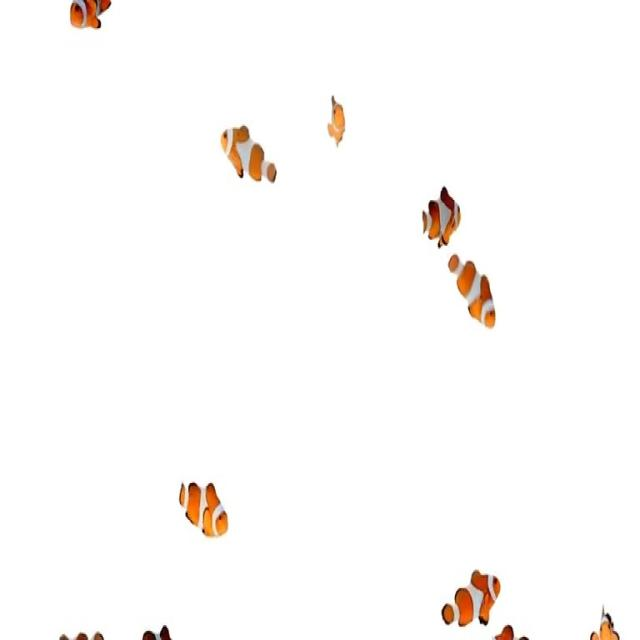fish: (448, 251, 503, 337), (441, 563, 502, 629), (220, 124, 278, 186), (180, 474, 228, 539), (419, 183, 460, 246), (66, 1, 114, 34), (325, 93, 348, 147)
